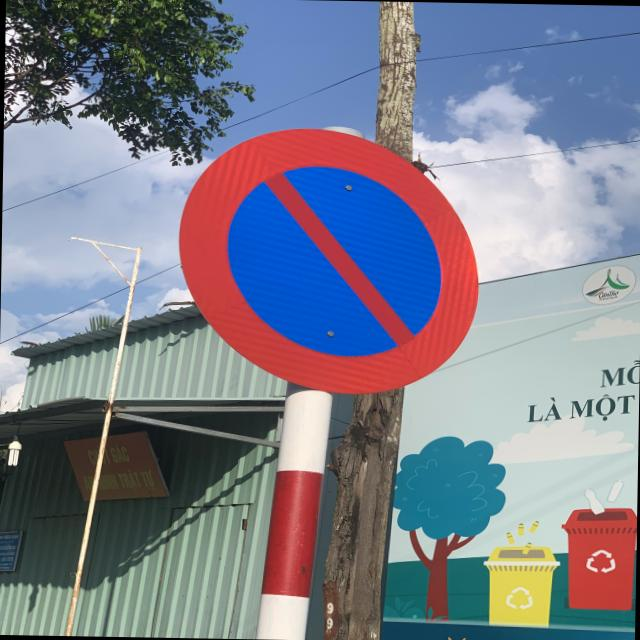Cam_Dau_Xe: (175, 123, 483, 398)
